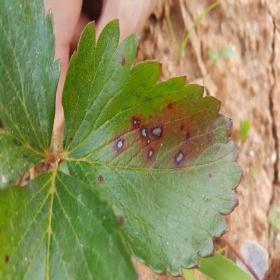Leaf Spot: (60, 19, 244, 278), (0, 165, 142, 279)
